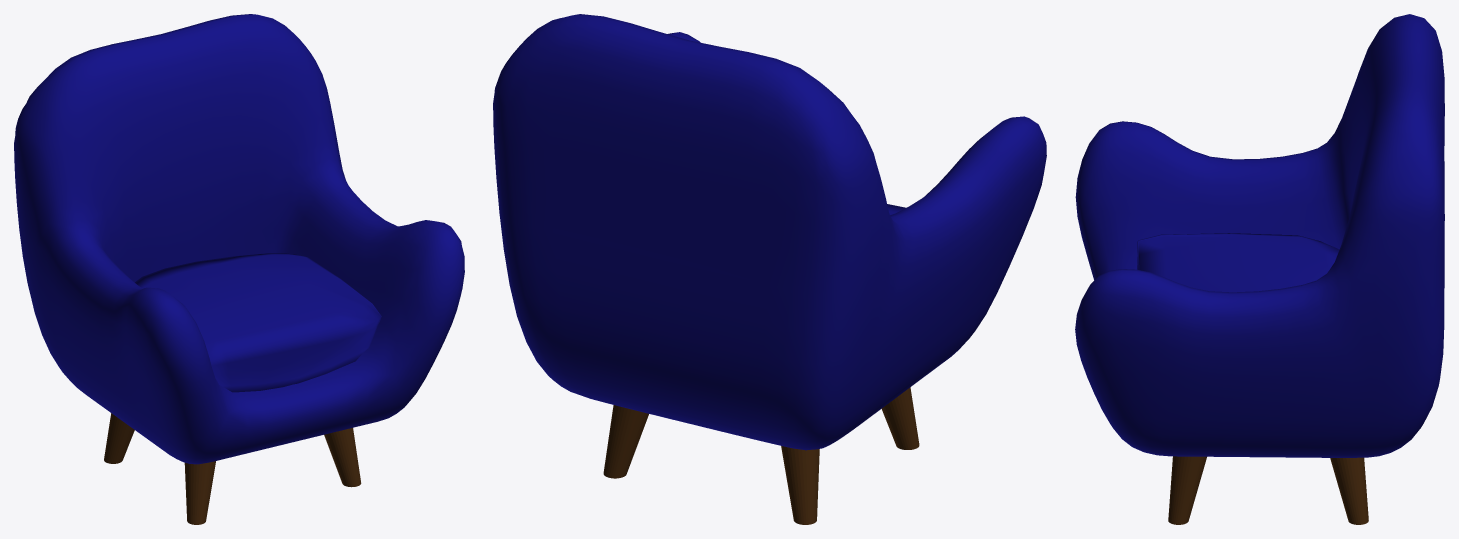
Rendered from model_Classic_Sessel.fbx.
3 renders of one model, left to right at view 1: azimuth 30°, elevation 25°; view 2: azimuth 150°, elevation 25°; view 3: azimuth 270°, elevation 25°, orthographic. The views are drawn at different scales.
Visible parts, largest first — view 1: Stuhlbein.003; view 2: Stuhlbein.003; view 3: Stuhlbein.003.
Part boxes in pixels (<box>): Stuhlbein.003: <box>14,14,464,524</box>; Stuhlbein.003: <box>493,14,1046,524</box>; Stuhlbein.003: <box>1075,14,1444,524</box>.
Bounding box in the file's own units: 159 × 189 × 150.
